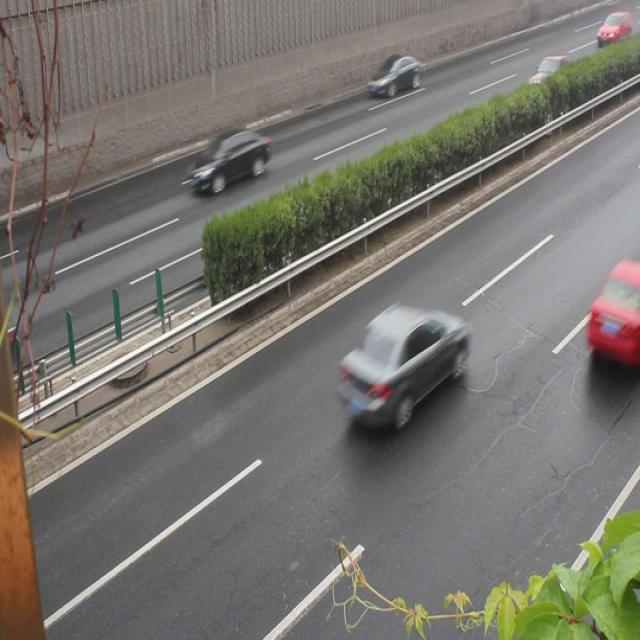car: (335, 300, 466, 430), (588, 254, 640, 370), (191, 129, 269, 190), (526, 54, 573, 106), (369, 53, 420, 98)
